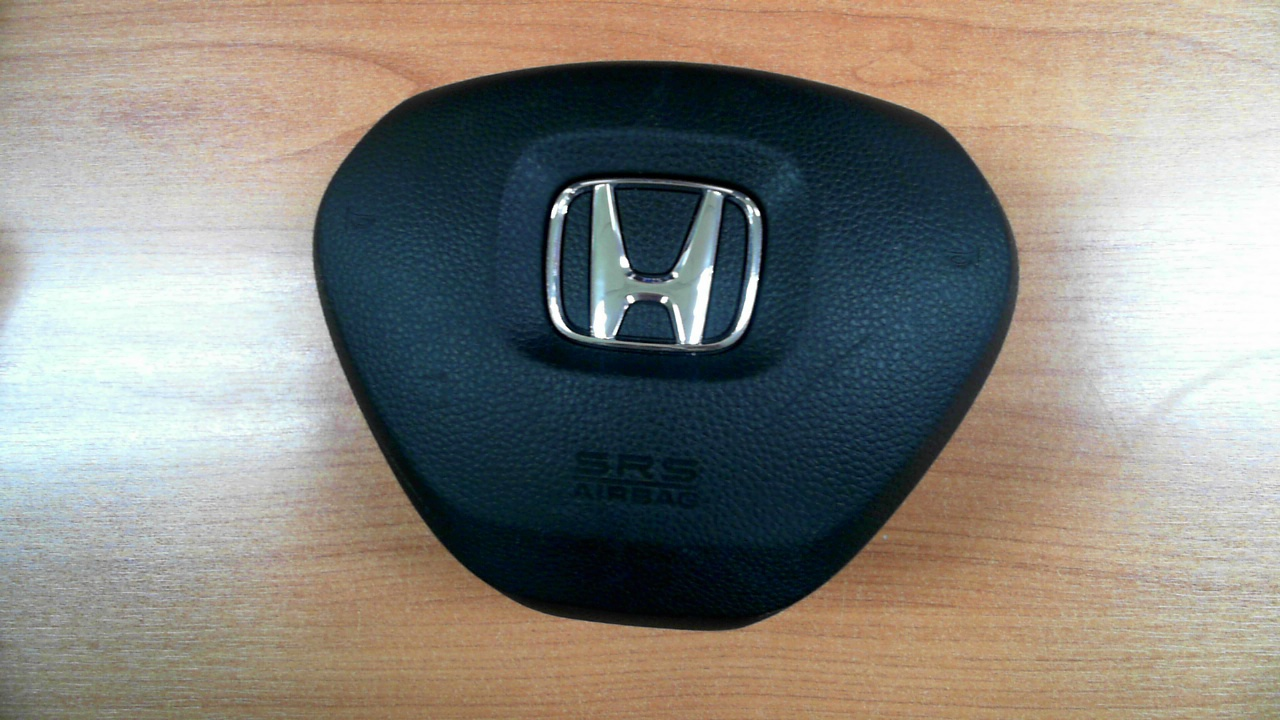Airbag: (312, 60, 1019, 632)
Honda: (545, 177, 764, 353)
